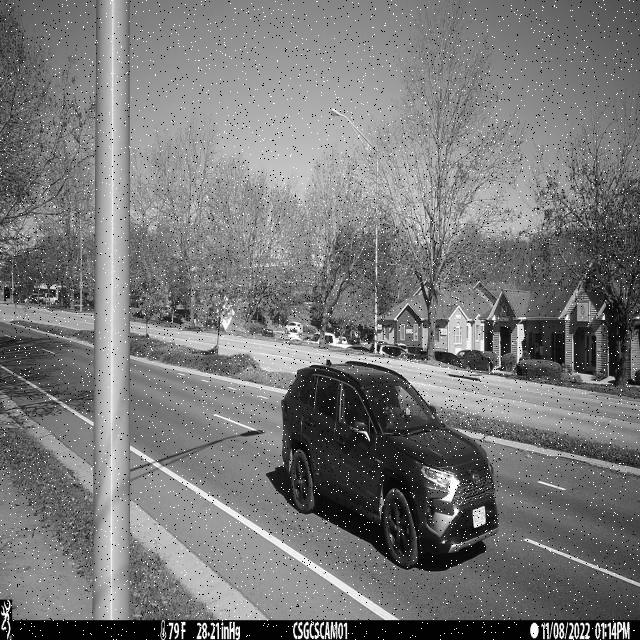SUV: (281, 359, 500, 570)
